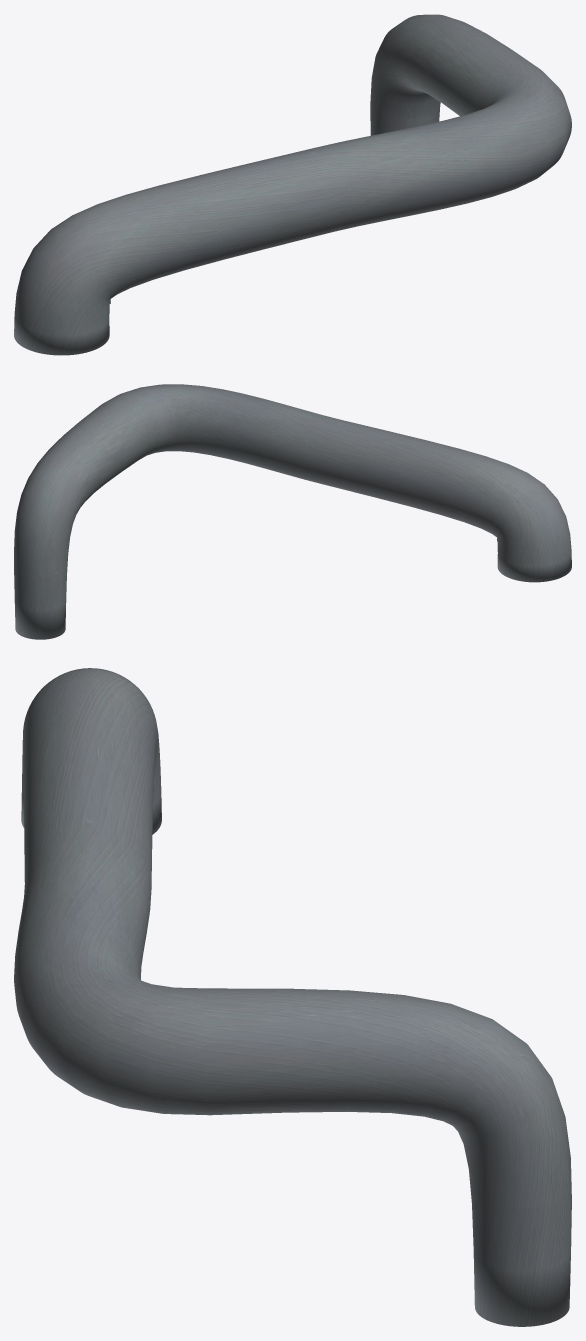
Rendered from TurboCharger_Small_Manifold_TwinCarb_Pipe.obj.
3 renders of one model, top to bottom at view 1: azimuth 30°, elevation 25°; view 2: azimuth 150°, elevation 25°; view 3: azimuth 270°, elevation 25°, orthographic. The views are drawn at different scales.
Visible parts, largest first — view 1: TurboCharger_Small_Manifold_TwinCarb_Pipe_BezierCurve.015; view 2: TurboCharger_Small_Manifold_TwinCarb_Pipe_BezierCurve.015; view 3: TurboCharger_Small_Manifold_TwinCarb_Pipe_BezierCurve.015.
Part boxes in pixels (left/top/right/bottom): TurboCharger_Small_Manifold_TwinCarb_Pipe_BezierCurve.015: left=14, top=14, right=571, bottom=355; TurboCharger_Small_Manifold_TwinCarb_Pipe_BezierCurve.015: left=14, top=384, right=571, bottom=639; TurboCharger_Small_Manifold_TwinCarb_Pipe_BezierCurve.015: left=14, top=668, right=571, bottom=1326.
Size of the model in its own units: 0.3364 by 0.1208 by 0.1937.
